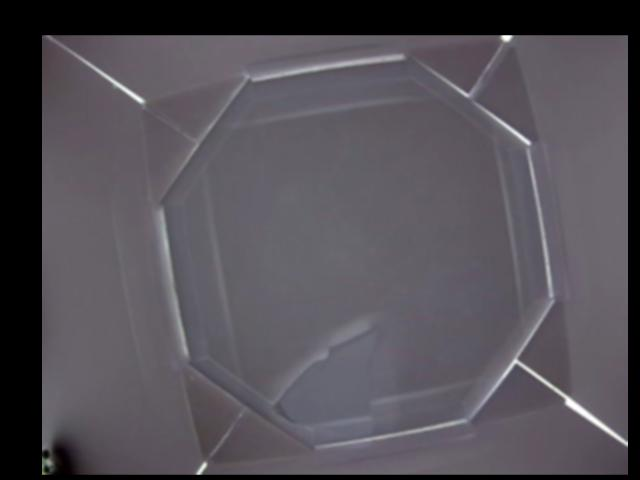China: (275, 327, 389, 437)
